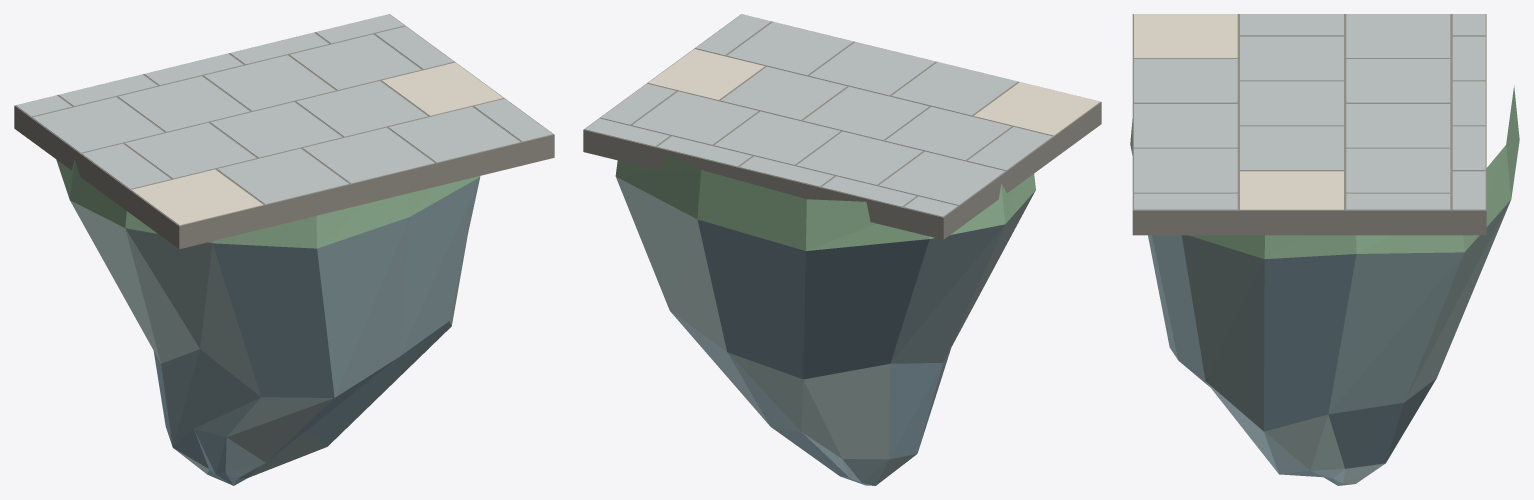
File: FloatingIsland03.glb
The picture shows the model from 3 angles, left to right: view 1: azimuth 30°, elevation 25°; view 2: azimuth 150°, elevation 25°; view 3: azimuth 270°, elevation 25°; orthographic projection. The views are drawn at different scales.
Visible parts, largest first — view 1: FloatingIsland03; view 2: FloatingIsland03; view 3: FloatingIsland03.
Boxes of the visible parts, x1,y1,x2,y2 form: FloatingIsland03: (14,14,554,485); FloatingIsland03: (583,14,1101,485); FloatingIsland03: (1130,14,1519,485).
Size of the model in its own units: 4.65 by 4.29 by 3.85.
